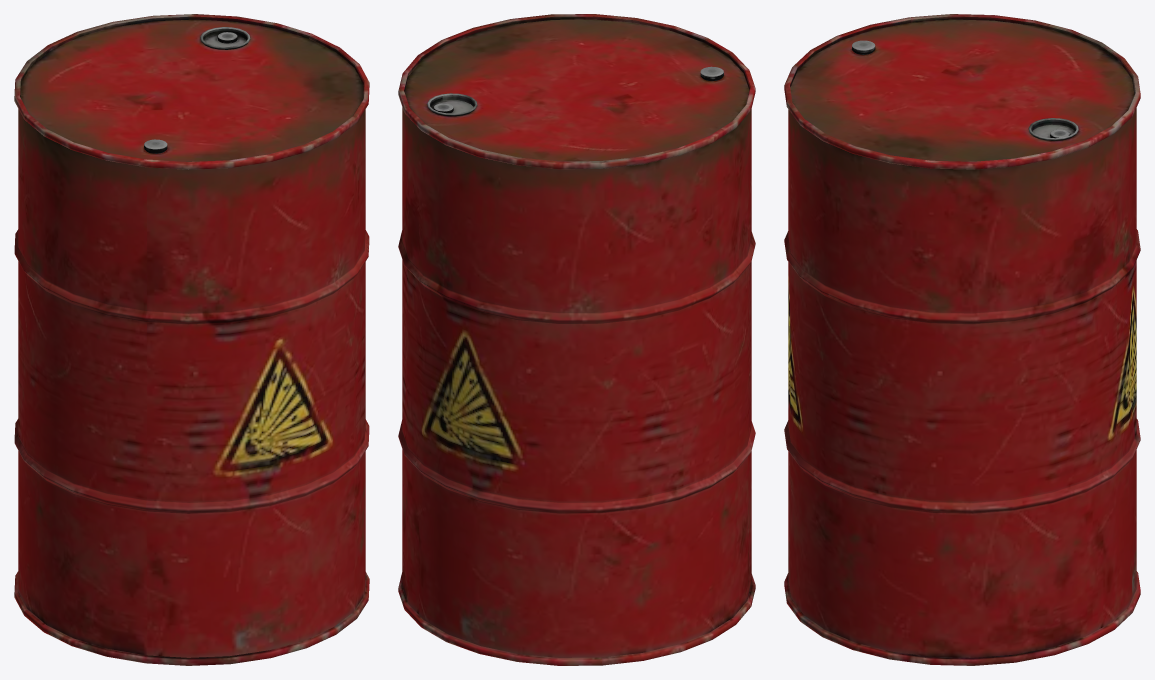
The model's file is metal_barrel.glb.
The picture shows the model from 3 angles, left to right: view 1: azimuth 30°, elevation 25°; view 2: azimuth 150°, elevation 25°; view 3: azimuth 270°, elevation 25°; orthographic projection.
Parts seen in each view (by area): view 1: Barrel_01; view 2: Barrel_01; view 3: Barrel_01.
Part boxes in pixels (x1=…): Barrel_01: x1=14, y1=14, x2=369, y2=665; Barrel_01: x1=398, y1=14, x2=755, y2=665; Barrel_01: x1=784, y1=14, x2=1140, y2=665.
Size of the model in its own units: 0.563 by 0.88 by 0.563.
Materials: 1 (1 with a texture image).
